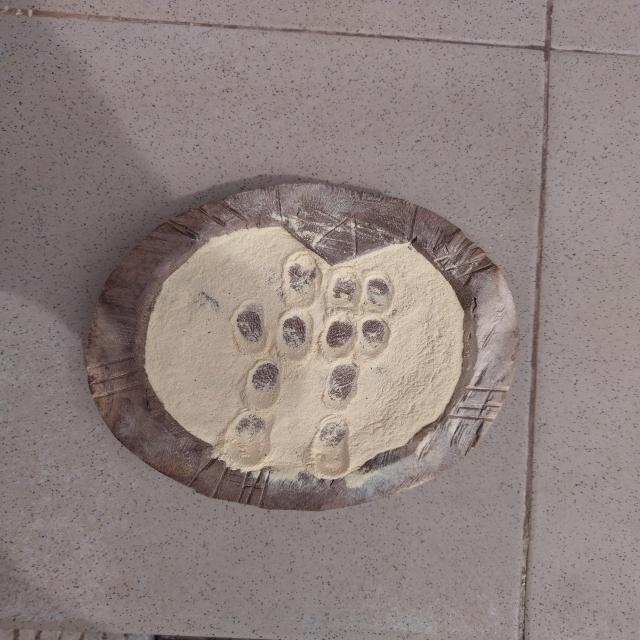double: (233, 304, 310, 361), (328, 269, 399, 317), (323, 318, 392, 362)
single: (308, 414, 355, 480), (230, 412, 278, 470), (280, 251, 324, 305), (241, 362, 283, 416), (322, 365, 360, 412)
